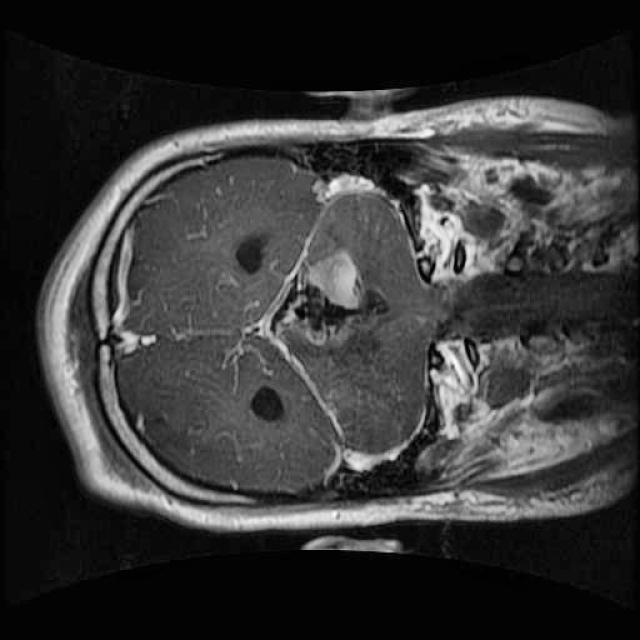Non-Tumor: (274, 221, 395, 358)
